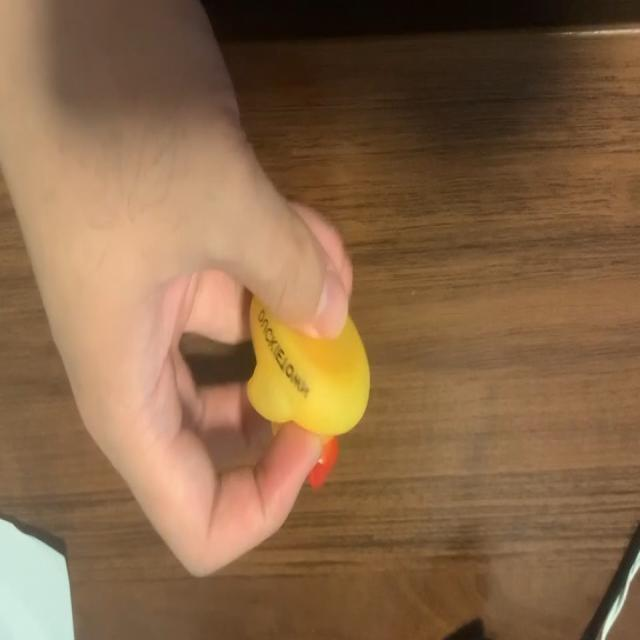rubber-duck: (246, 297, 368, 487)
